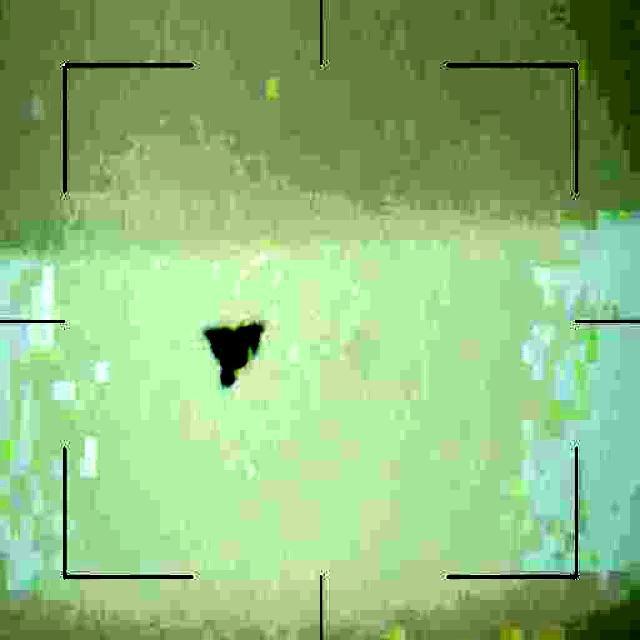bird: (199, 322, 269, 394)
